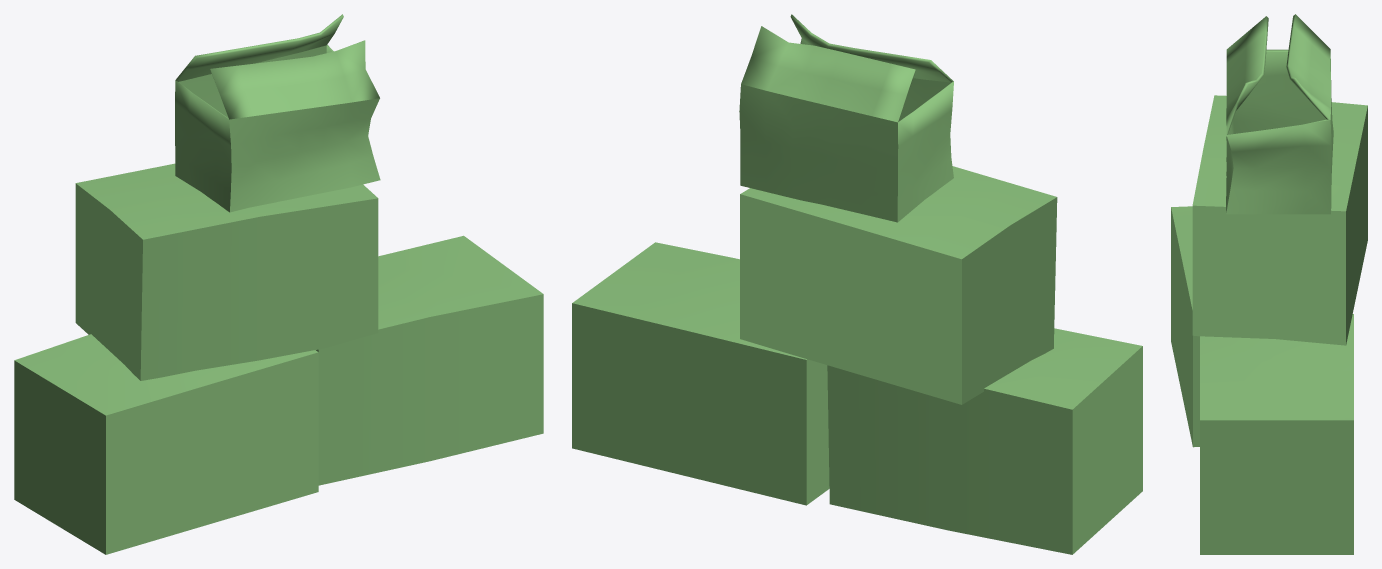
File: PR_PaperBox_v1.fbx
3 renders of one model, left to right at view 1: azimuth 30°, elevation 25°; view 2: azimuth 150°, elevation 25°; view 3: azimuth 270°, elevation 25°, orthographic. The views are drawn at different scales.
Parts seen in each view (by area): view 1: paper box; view 2: paper box; view 3: paper box.
Boxes of the visible parts, x1,y1,x2,y2 form: paper box: (14, 14, 543, 554); paper box: (572, 14, 1142, 554); paper box: (1171, 14, 1367, 554).
Size of the model in its own units: 1369 by 1182 by 520.
